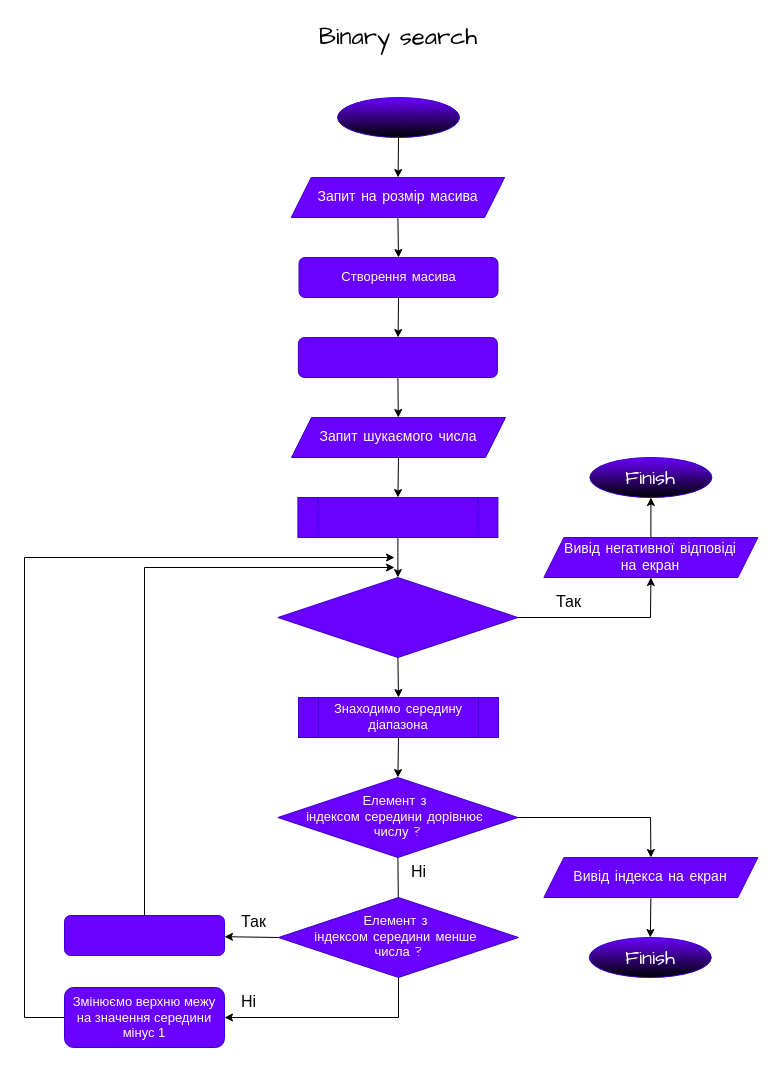
Image size: 776x1065. Some labels were removed from this diagram. The centre of each missing label's shape, as x and y in pixels:
Start: pixel 398 117
Змінюємо нижню межу на значення середини плюс 1: pixel 144 935
Нижня межа діапазону не більша за вищу ?: pixel 397 617
Сортування масива: pixel 397 517
Ініціалізація масива: pixel 397 357
